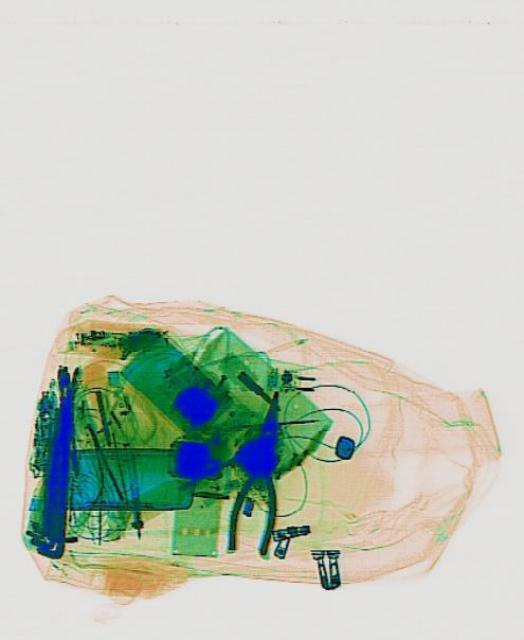Pliers: (222, 384, 296, 556)
